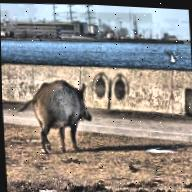boar: (11, 76, 95, 151)
